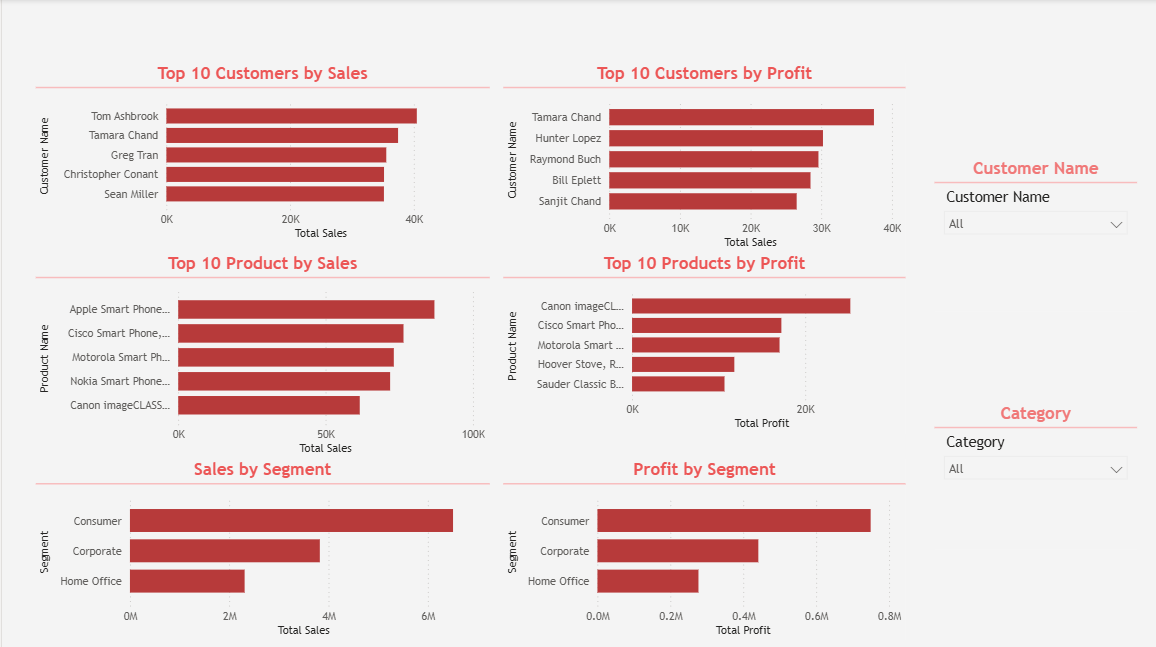

This screenshot's page, from the dashboard's own definition file:
{"tool":"powerbi","page":{"name":"Customer & Product Analysis","canvas":[1280,720],"ordinal":1},"visuals":[{"type":"clusteredBarChart","title":"Top 10 Customers by Sales","fields":{"Y":["Global_Superstore2.Total Sales"],"Category":["Global_Superstore2.Customer Name"]},"box":[37,70,498.1,199],"z":0},{"type":"clusteredBarChart","title":"Top 10  Customers by Profit","fields":{"Y":["Global_Superstore2.Total Sales"],"Category":["Global_Superstore2.Customer Name"]},"box":[550.3,70,441.9,208.6],"z":1000},{"type":"clusteredBarChart","title":"Top 10 Product by Sales","fields":{"Y":["Global_Superstore2.Total Sales"],"Category":["Global_Superstore2.Product Name"]},"box":[37,278.6,498.1,226.4],"z":2000},{"type":"clusteredBarChart","title":"Top 10 Products by Profit","fields":{"Y":["Global_Superstore2.Total Profit"],"Category":["Global_Superstore2.Product Name"]},"box":[550.3,278.6,441.9,199],"z":3000},{"type":"barChart","title":"Sales by Segment","fields":{"Y":["Global_Superstore2.Total Sales"],"Category":["Global_Superstore2.Segment"]},"box":[37,505,498.1,199],"z":4000},{"type":"barChart","title":"Profit by Segment","fields":{"Y":["Global_Superstore2.Total Profit"],"Category":["Global_Superstore2.Segment"]},"box":[550.3,505,441.9,199],"z":5000},{"type":"slicer","title":"Customer Name","fields":{"Values":["Global_Superstore2.Customer Name"]},"box":[1023.7,174.3,222.3,168.8],"z":6000},{"type":"slicer","title":"Category","fields":{"Values":["Global_Superstore2.Category"]},"box":[1023.7,443.2,222.3,161.9],"z":7000}]}

Visuals, with their boxes in screenshot pixels (x1, y1, x2, y2), scaled from the page's 1280x720 canvas onto the 1156x647 screenshot:
"Top 10 Customers by Sales" clusteredBarChart: box(33, 63, 483, 242)
"Top 10  Customers by Profit" clusteredBarChart: box(497, 63, 896, 250)
"Top 10 Product by Sales" clusteredBarChart: box(33, 250, 483, 454)
"Top 10 Products by Profit" clusteredBarChart: box(497, 250, 896, 429)
"Sales by Segment" barChart: box(33, 454, 483, 633)
"Profit by Segment" barChart: box(497, 454, 896, 633)
"Customer Name" slicer: box(925, 157, 1125, 308)
"Category" slicer: box(925, 398, 1125, 544)
